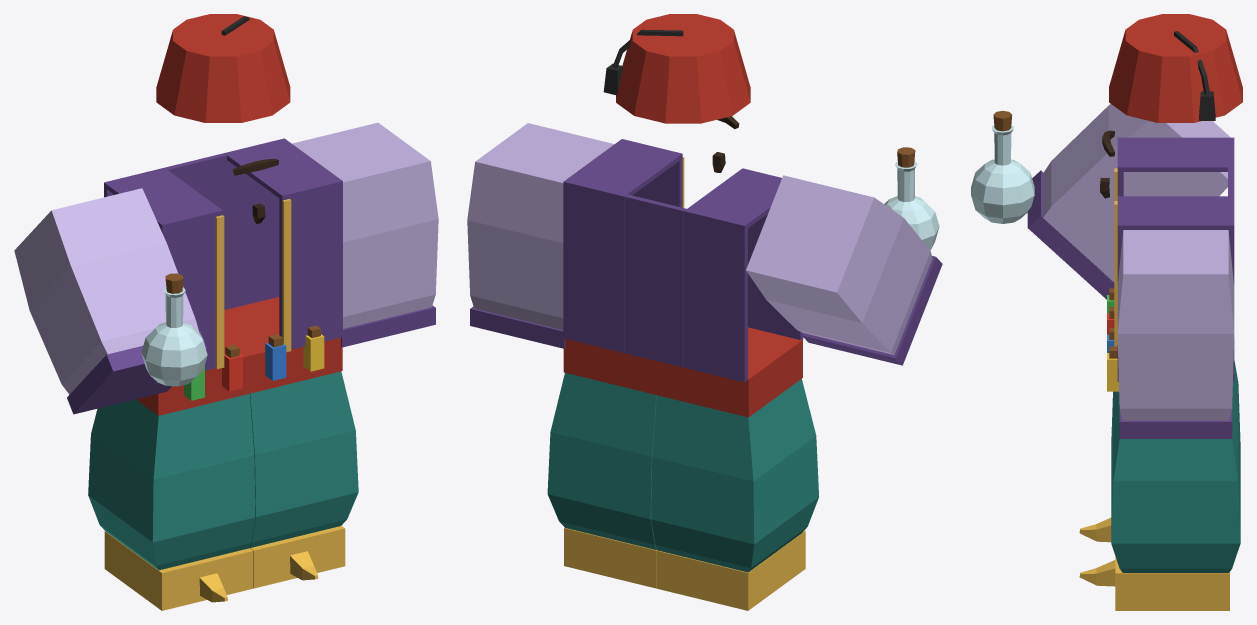
Rendered from w4_keeper_perfumer.fbx.
3 views of the same model, side by side, from view 1: azimuth 30°, elevation 25°; view 2: azimuth 150°, elevation 25°; view 3: azimuth 270°, elevation 25° (orthographic).
Parts seen in each view (by area): view 1: Perfumer.Trousers, Perfumer.Vest, Perfumer.SleeveR, Perfumer.SleeveL, Perfumer.Fez, Perfumer.Slippers, Perfumer.Sash, Perfumer.Flask, Perfumer.CuffR, Perfumer.VestTrim, Perfumer.CuffL, Perfumer.VialBlue (+3 smaller); view 2: Perfumer.Trousers, Perfumer.Vest, Perfumer.SleeveR, Perfumer.SleeveL, Perfumer.Fez, Perfumer.Sash, Perfumer.Slippers, Perfumer.CuffR, Perfumer.Flask, Perfumer.CuffL, Perfumer.Tassel; view 3: Perfumer.SleeveL, Perfumer.Trousers, Perfumer.SleeveR, Perfumer.Fez, Perfumer.Vest, Perfumer.Slippers, Perfumer.Flask, Perfumer.CuffR, Perfumer.CuffL, Perfumer.Tassel, Perfumer.VestTrim, Perfumer.Beard (+1 smaller).
Boxes of the visible parts, box(x1,y1,x2,y2) form: Perfumer.Trousers: box(88, 371, 358, 570); Perfumer.Vest: box(104, 138, 342, 370); Perfumer.SleeveR: box(14, 188, 199, 394); Perfumer.SleeveL: box(292, 122, 438, 328); Perfumer.Fez: box(156, 14, 290, 122); Perfumer.Slippers: box(104, 526, 345, 610); Perfumer.Sash: box(136, 297, 342, 415); Perfumer.Flask: box(141, 287, 207, 386); Perfumer.CuffR: box(67, 331, 206, 414); Perfumer.VestTrim: box(215, 199, 291, 369); Perfumer.CuffL: box(341, 305, 435, 347); Perfumer.VialBlue: box(265, 343, 286, 380); Perfumer.Trousers: box(547, 373, 818, 572); Perfumer.Vest: box(563, 139, 803, 382); Perfumer.SleeveR: box(746, 175, 932, 354); Perfumer.SleeveL: box(467, 123, 614, 329); Perfumer.Fez: box(616, 14, 750, 123); Perfumer.Sash: box(563, 327, 802, 417); Perfumer.Slippers: box(564, 528, 805, 610); Perfumer.CuffR: box(802, 256, 942, 365); Perfumer.Flask: box(884, 161, 939, 249); Perfumer.CuffL: box(470, 306, 565, 348); Perfumer.Tassel: box(603, 29, 683, 95); Perfumer.SleeveL: box(1117, 230, 1234, 420); Perfumer.Trousers: box(1111, 360, 1240, 572); Perfumer.SleeveR: box(1043, 104, 1230, 281); Perfumer.Fez: box(1109, 14, 1242, 122); Perfumer.Vest: box(1117, 137, 1234, 381); Perfumer.Slippers: box(1079, 517, 1229, 610); Perfumer.Flask: box(971, 125, 1034, 223); Perfumer.CuffR: box(1027, 170, 1114, 299); Perfumer.CuffL: box(1119, 409, 1232, 438); Perfumer.Tassel: box(1174, 31, 1215, 120); Perfumer.VestTrim: box(1114, 168, 1117, 346); Perfumer.Beard: box(1100, 130, 1114, 198).
Size of the model in its own units: 4.12 by 5.66 by 2.61.
